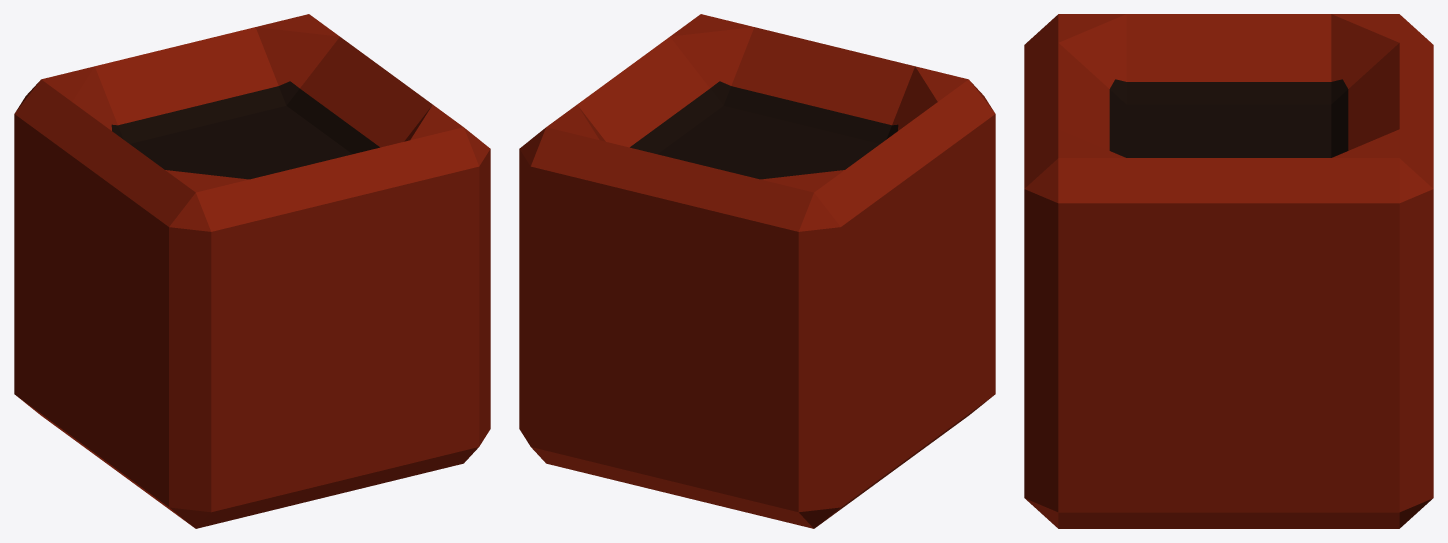
The model's file is Pot.fbx.
3 views of the same model, side by side, from view 1: azimuth 30°, elevation 25°; view 2: azimuth 150°, elevation 25°; view 3: azimuth 270°, elevation 25° (orthographic). The views are drawn at different scales.
Parts seen in each view (by area): view 1: Pot; view 2: Pot; view 3: Pot.
Boxes of the visible parts, left/top/right/bottom form: Pot: left=14, top=14, right=490, bottom=528; Pot: left=519, top=14, right=995, bottom=528; Pot: left=1024, top=14, right=1433, bottom=528.
Size of the model in its own units: 60 by 60 by 60.
